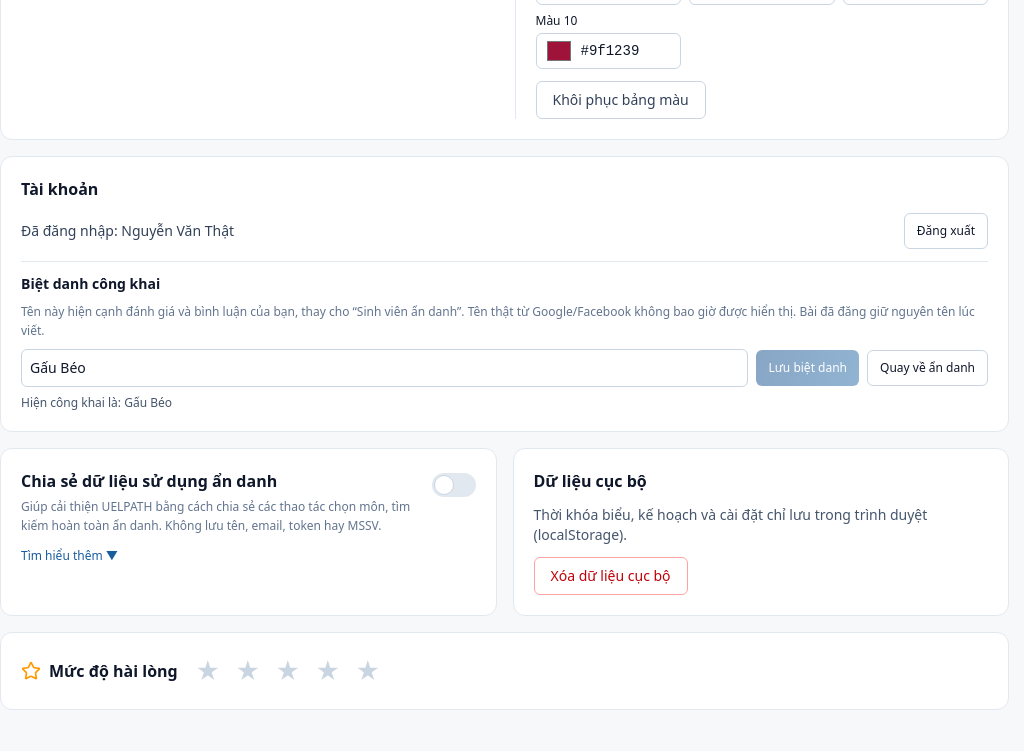
Scenario: Cài đặt — biệt danh công khai › có nút quay về ẩn danh khi đã có biệt danh
This screenshot has width=1024, height=751.
(page scrolled)
Click the button "Quay về ẩn danh" at (928, 368), box left=867, top=350, right=988, bottom=386
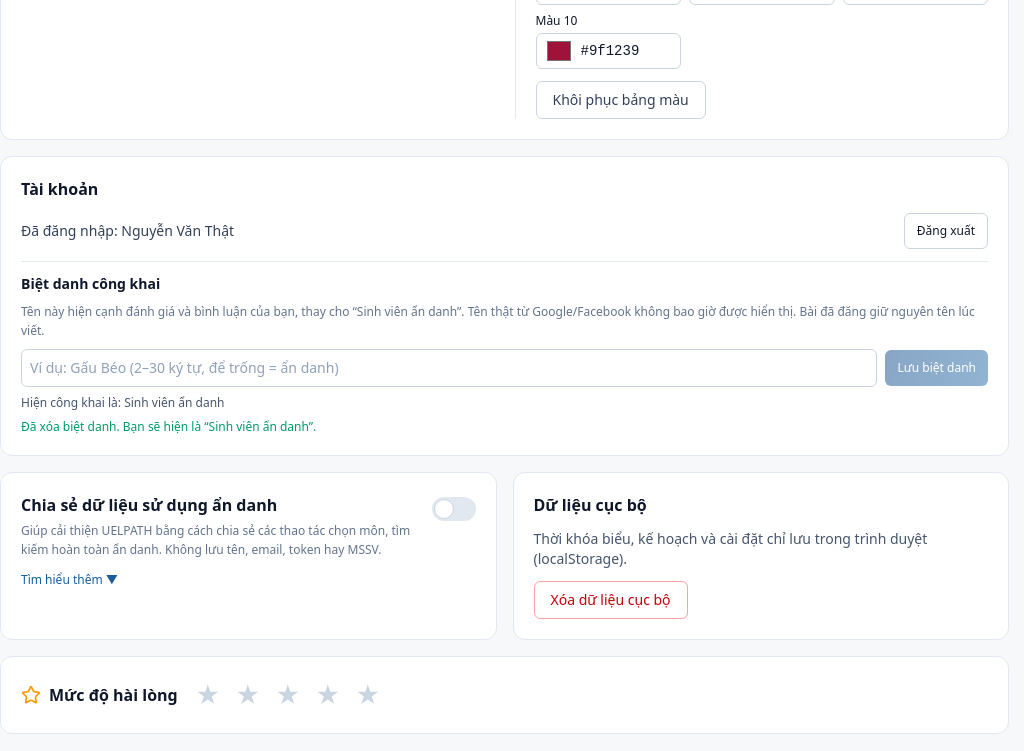
Now the text "Hiện công khai là: Sinh viên ẩn danh" is shown, box left=21, top=394, right=224, bottom=410
Now the button "Quay về ẩn danh" is gone
